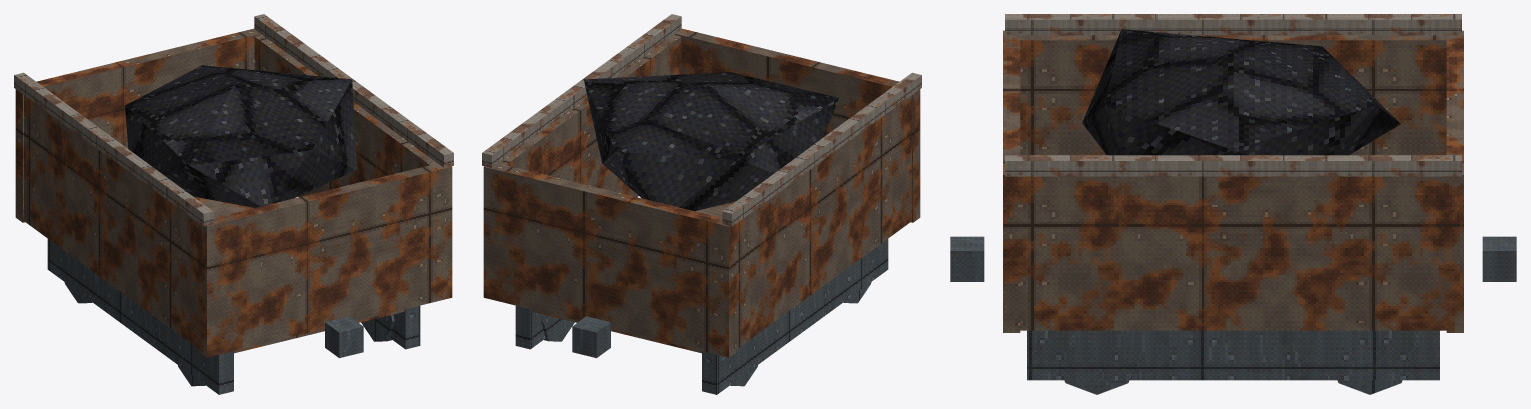
Rendered from minecart_ore.glb.
The picture shows the model from 3 angles, left to right: view 1: azimuth 30°, elevation 25°; view 2: azimuth 150°, elevation 25°; view 3: azimuth 270°, elevation 25°; orthographic projection. The views are drawn at different scales.
Visible parts, largest first — view 1: minecart_ore; view 2: minecart_ore; view 3: minecart_ore.
Part boxes in pixels (x1,y1,x2,y2): minecart_ore: [14, 14, 453, 394]; minecart_ore: [482, 14, 921, 394]; minecart_ore: [950, 14, 1516, 394].
Bounding box in the file's own units: 1.02 × 0.9176 × 1.66.
Materials: 4 (4 with a texture image).
